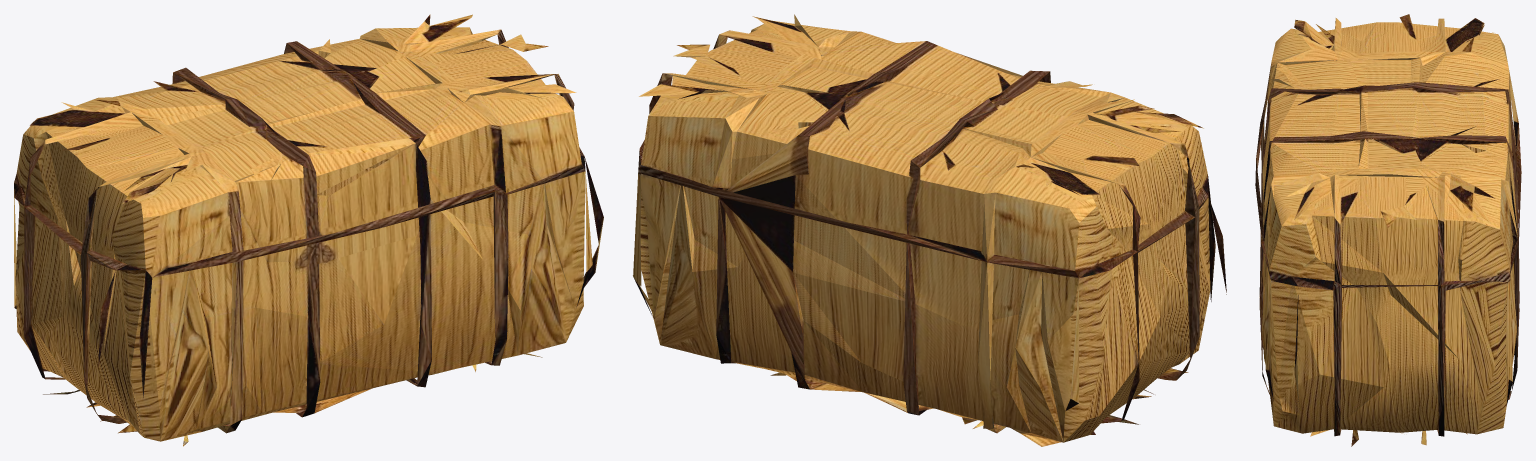
Rendered from hay-bale.glb.
3 views of the same model, side by side, from view 1: azimuth 30°, elevation 25°; view 2: azimuth 150°, elevation 25°; view 3: azimuth 270°, elevation 25° (orthographic). The views are drawn at different scales.
Size of the model in its own units: 0.9 by 0.45 by 0.45.
Materials: 1 (1 with a texture image).
